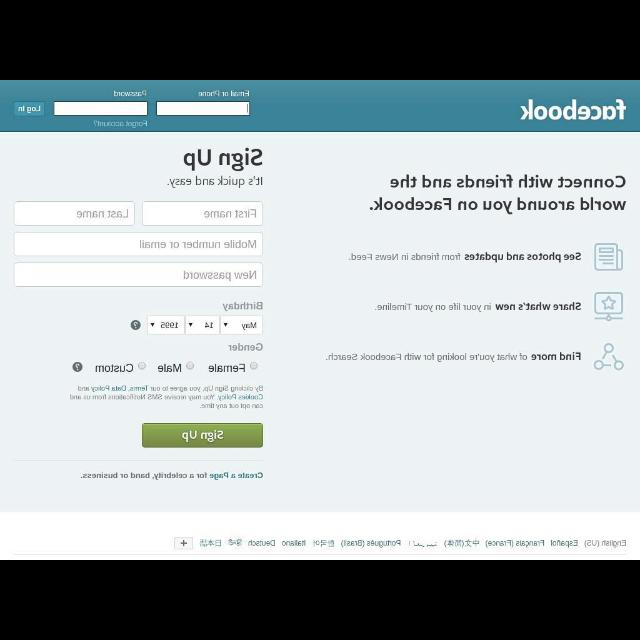button: (174, 536, 192, 550)
checkbox: (250, 362, 258, 370), (186, 362, 194, 370), (138, 362, 146, 370)
icon: (592, 292, 624, 322), (593, 343, 625, 371), (594, 243, 624, 271), (131, 320, 141, 330), (72, 362, 82, 372), (180, 540, 188, 548), (189, 323, 193, 327), (151, 323, 155, 327), (225, 324, 228, 326)
image: (518, 98, 628, 122)
input: (13, 232, 263, 256), (13, 263, 263, 287), (142, 202, 264, 226), (14, 201, 134, 225), (156, 102, 250, 116), (54, 102, 146, 115)
spinner: (221, 316, 263, 334), (184, 316, 220, 334), (148, 316, 184, 334)
text: (369, 175, 626, 215), (69, 386, 264, 410), (325, 352, 581, 364), (348, 252, 582, 264), (182, 146, 264, 172), (376, 302, 582, 312), (80, 471, 264, 481), (167, 175, 265, 189), (140, 240, 256, 250), (184, 270, 258, 280), (340, 539, 402, 549), (182, 428, 224, 442), (204, 209, 256, 219), (77, 209, 129, 219), (94, 119, 148, 128), (485, 540, 545, 548), (197, 90, 249, 98), (222, 302, 262, 312), (208, 364, 246, 374), (96, 363, 134, 373), (444, 539, 481, 549), (228, 342, 262, 352), (584, 540, 626, 548), (407, 540, 438, 550), (281, 538, 307, 548), (114, 89, 146, 97), (158, 363, 182, 373), (198, 538, 222, 548), (550, 540, 578, 548), (312, 538, 334, 548), (226, 538, 244, 548), (18, 106, 40, 114), (247, 540, 276, 546), (241, 322, 257, 331), (161, 322, 179, 330), (204, 322, 214, 330)
textbutton: (142, 424, 262, 448), (13, 102, 43, 116)
toolbar: (2, 82, 640, 132)
